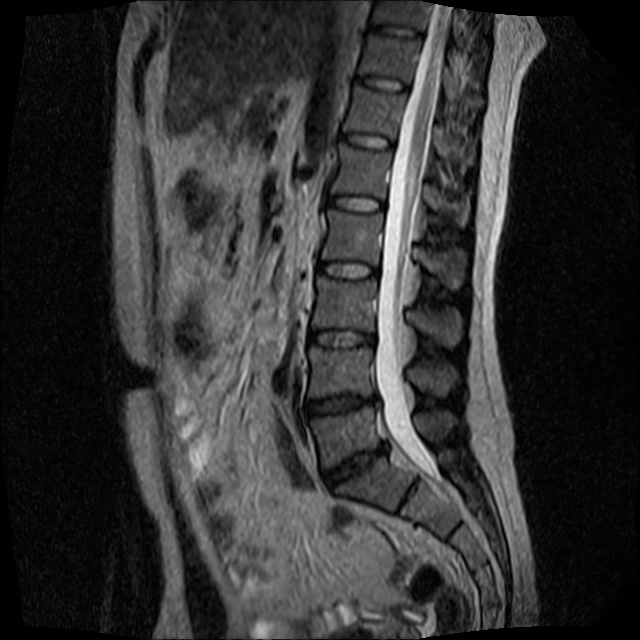L1,v1: (328, 153, 399, 192)
L1-L2,v1: (324, 183, 395, 222)
L2,v1: (316, 215, 387, 254)
L2-L3,v1: (312, 249, 383, 288)
L3,v2: (308, 285, 379, 324)
L3-L4,v2: (305, 320, 376, 359)
L4,v2: (303, 352, 374, 391)
L4-L5,v3: (306, 382, 377, 421)
L5,v2: (309, 420, 380, 459)
L5-S1,v3: (321, 446, 392, 485)
T12-L1,v1: (331, 121, 402, 160)
